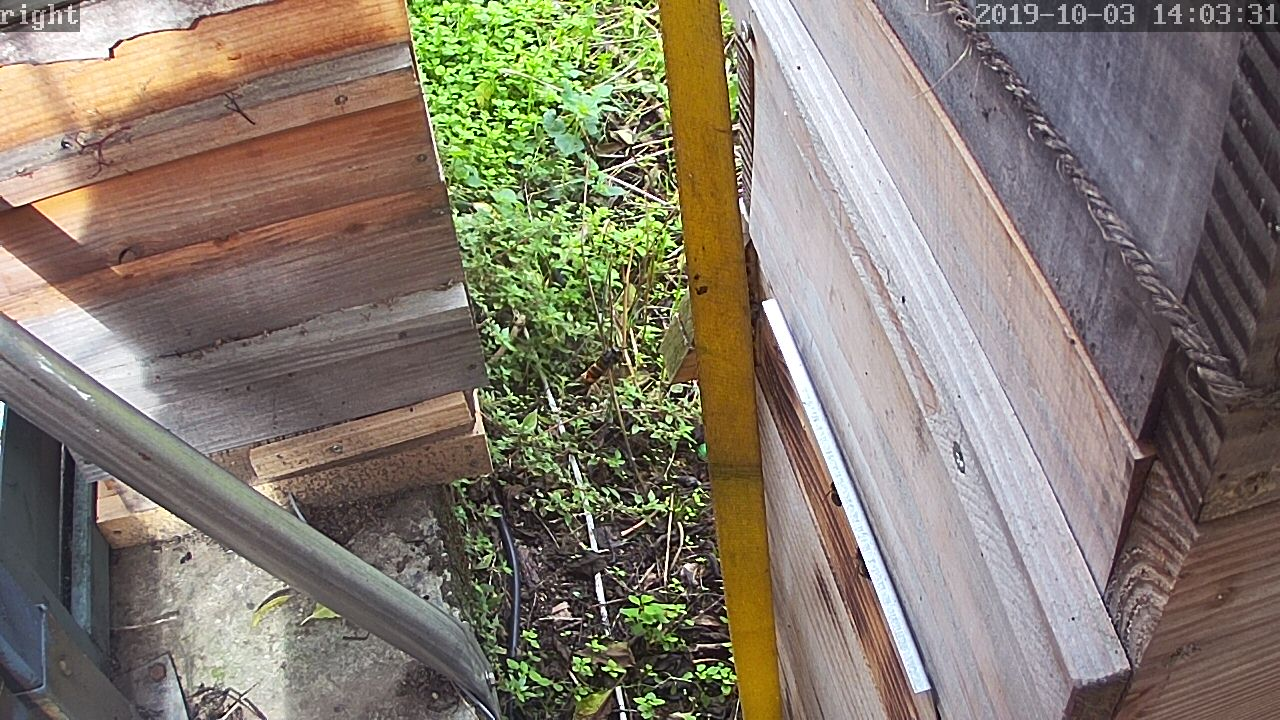bee: (848, 546, 877, 583), (820, 482, 847, 509)
hornet: (576, 340, 625, 397)
